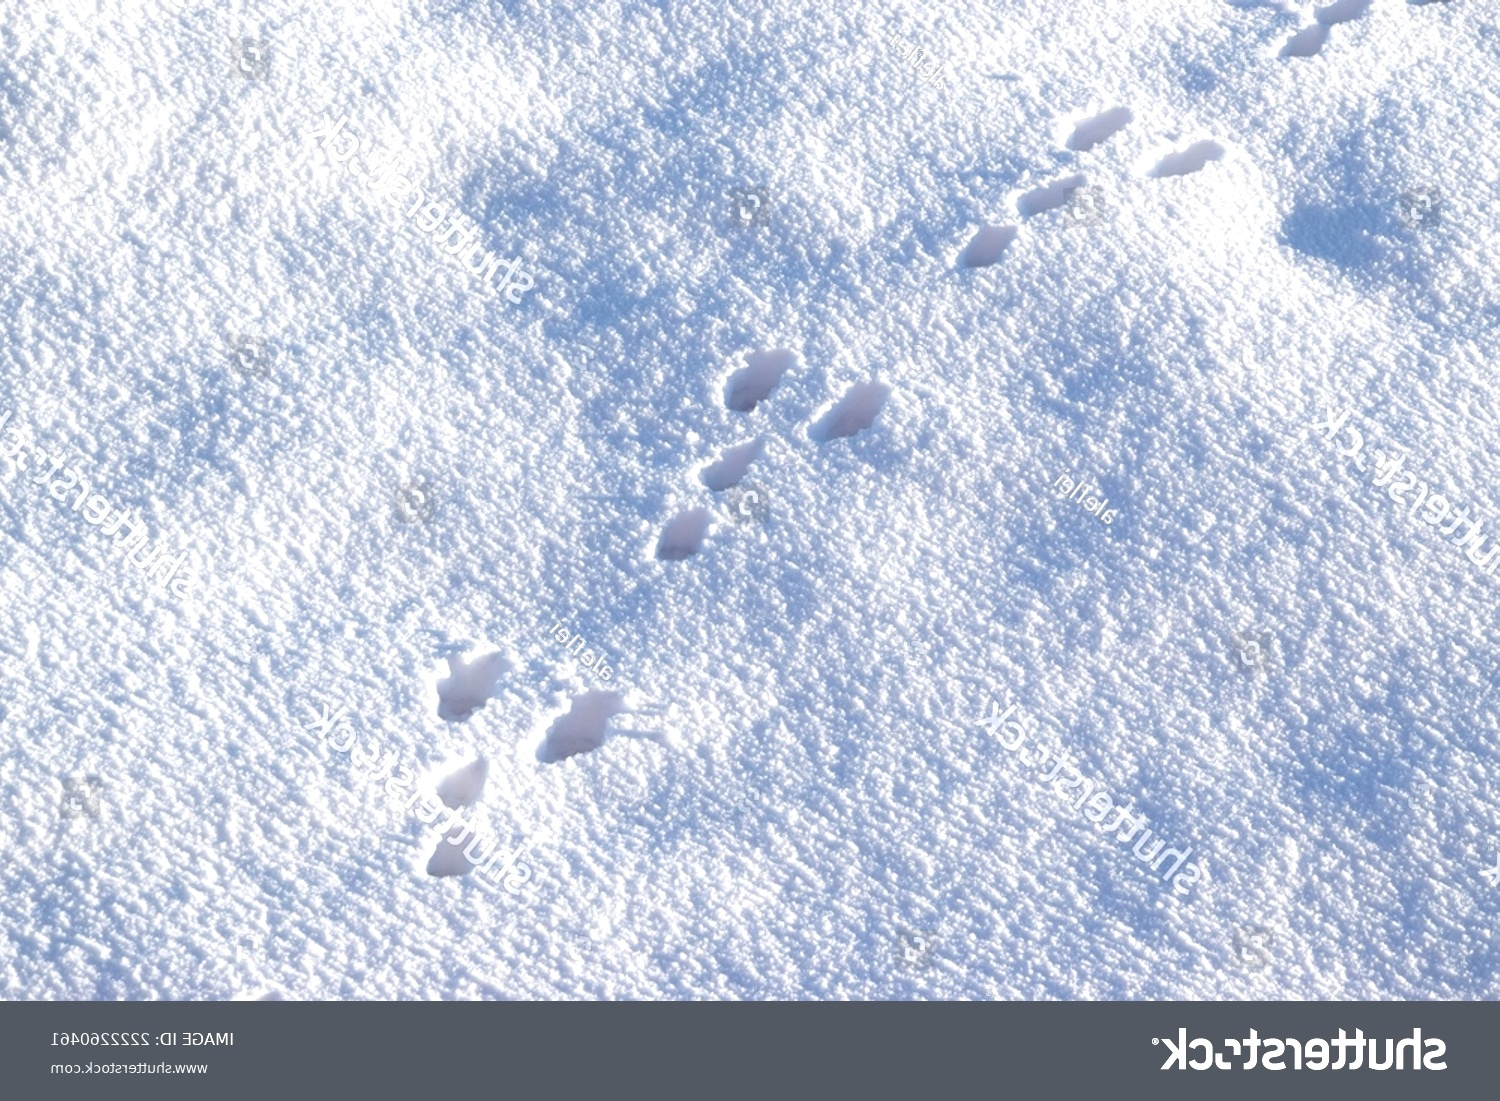rabbit: (622, 338, 908, 601)
